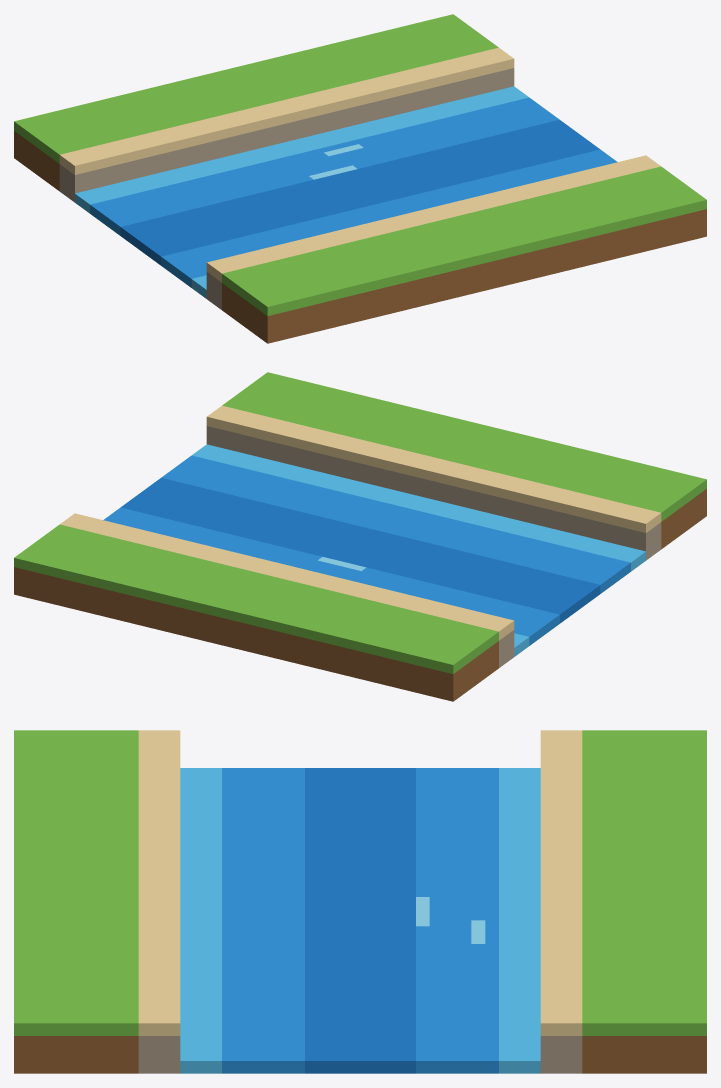
File: river_straight.glb
3 views of the same model, one above another, from view 1: azimuth 30°, elevation 25°; view 2: azimuth 150°, elevation 25°; view 3: azimuth 270°, elevation 25° (orthographic). The views are drawn at different scales.
Visible parts, largest first — view 1: model_0; view 2: model_0; view 3: model_0.
Part boxes in pixels (x1,y1,x2,y2): model_0: [14, 14, 706, 343]; model_0: [14, 372, 706, 701]; model_0: [14, 730, 706, 1073].
Size of the model in its own units: 2 by 0.16 by 2.
